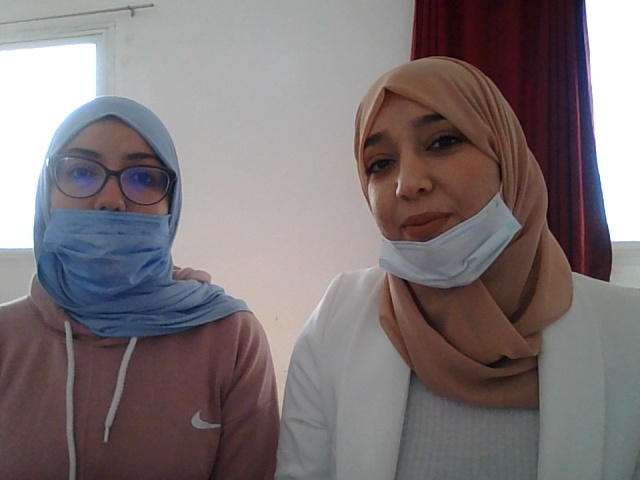mask_weared_incorrect: (340, 70, 556, 301), (32, 95, 185, 292)
